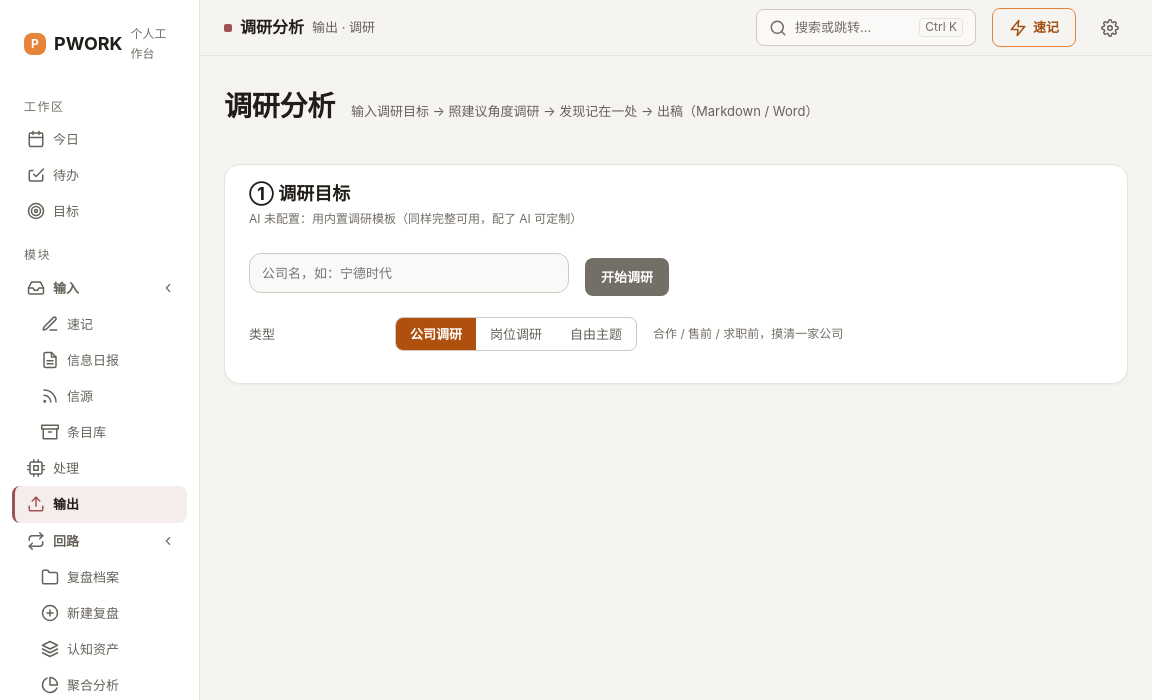
Test: 调研分析页（任务式） › 空态：输入目标开始调研 → 内置模板框架出现（无 AI 也完整可用）
Check: the heading "① 调研目标" is shown, box [249,183,350,204]
Check: the text "AI 未配置：用内置调研模板（同样完整可用，配了 AI 可定制）" is shown, box [249,211,582,226]
In the field named "调研目标": (409, 273) [249,253,569,293], type "宁德时代"
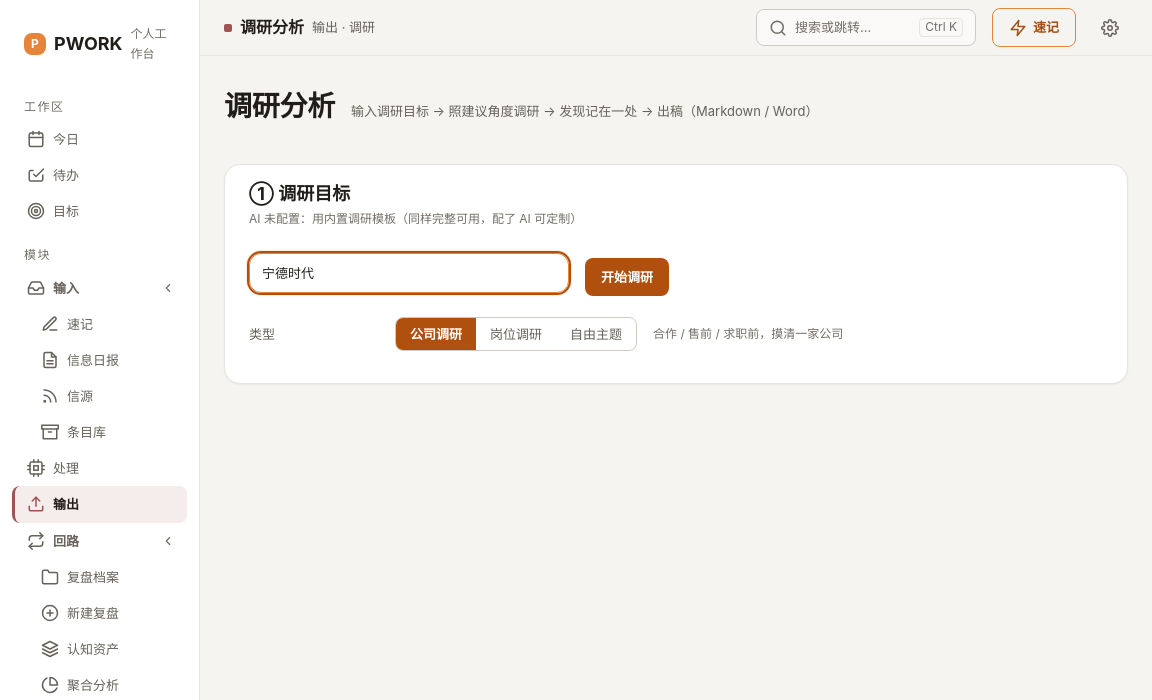
Click the button with test id "start-research": click(627, 277) [585,258,669,296]
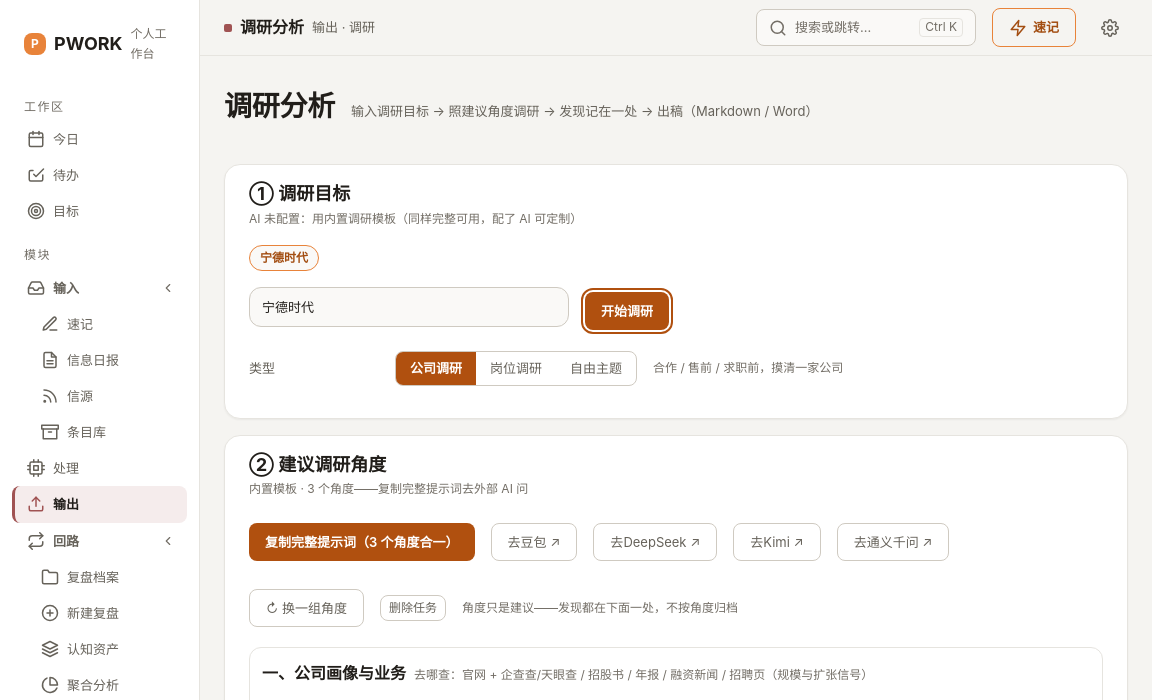
Check: the text "一、公司画像与业务" is shown, box [262,660,406,688]
Check: the number of buttons "复制完整提示词（3 个角度合一）" is 1, box [249,523,475,561]
Check: the link "去豆包 ↗" is shown, box [491,523,577,561]
